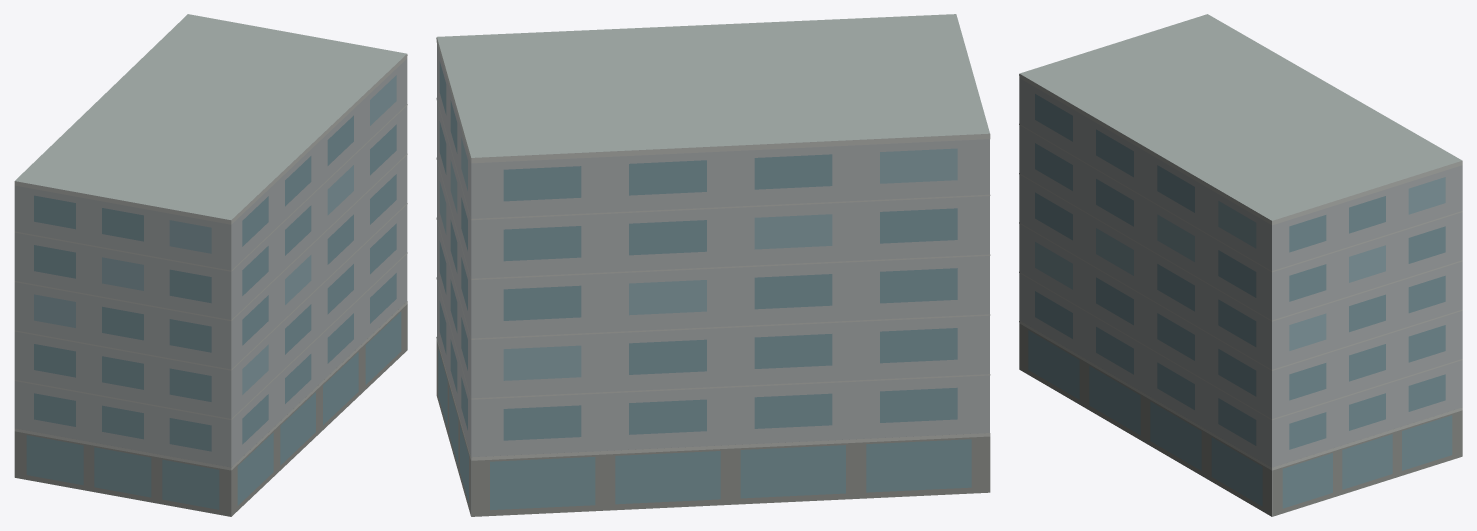
Rendered from survey-upis-33002877.glb.
3 renders of one model, left to right at view 1: azimuth 30°, elevation 25°; view 2: azimuth 150°, elevation 25°; view 3: azimuth 270°, elevation 25°, orthographic. The views are drawn at different scales.
Parts seen in each view (by area): view 1: survey-upis-33002877.tmp; view 2: survey-upis-33002877.tmp; view 3: survey-upis-33002877.tmp.
Boxes of the visible parts, box(x1,y1,x2,y2) form: survey-upis-33002877.tmp: box(14, 14, 407, 516); survey-upis-33002877.tmp: box(436, 14, 990, 516); survey-upis-33002877.tmp: box(1019, 14, 1462, 516).
Bounding box in the file's own units: 24.01 × 16 × 21.74.
